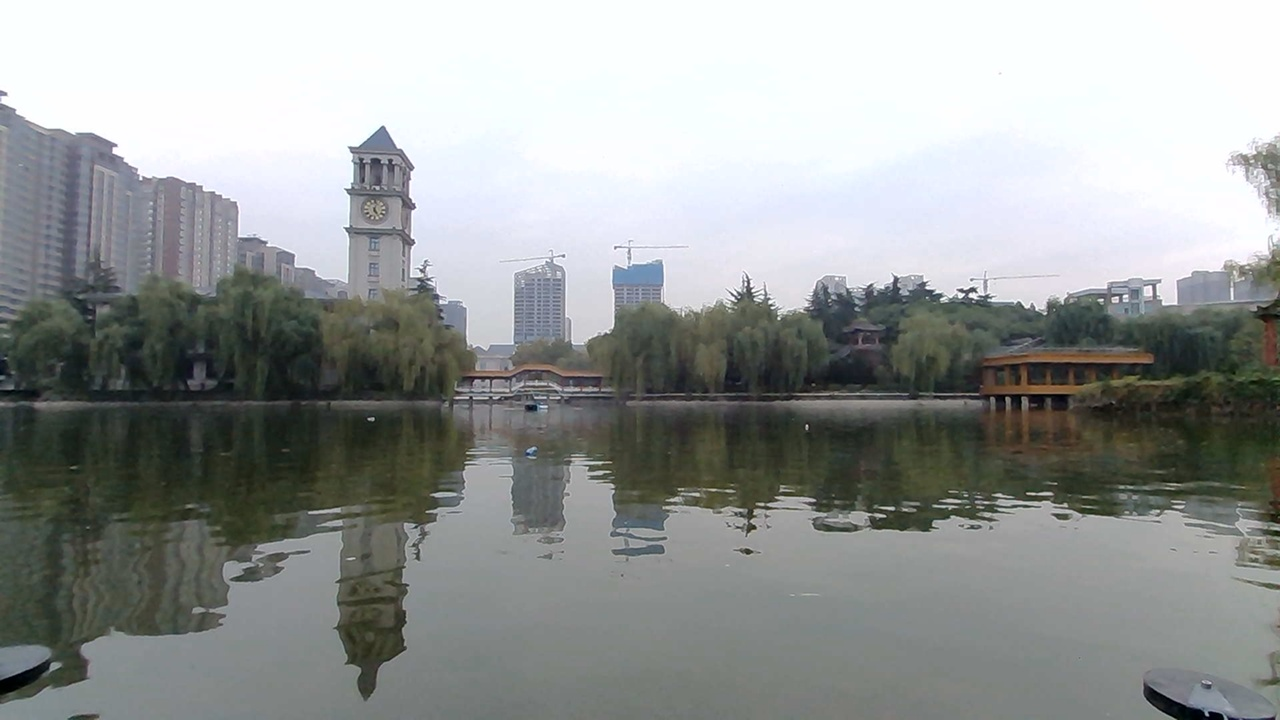bottle: (515, 433, 556, 462), (793, 417, 824, 438), (365, 405, 391, 424)
